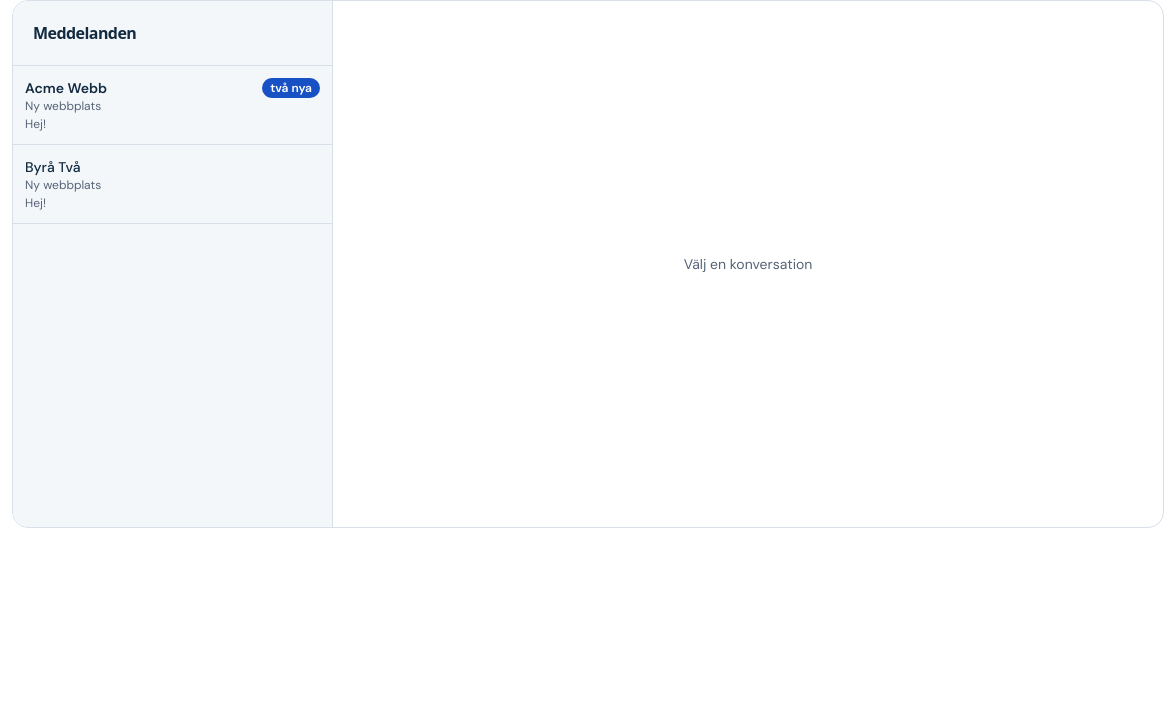
Scenario: chat › waits until the page is visible before marking messages read
The image size is (1164, 720).
Click the text "Acme Webb" at (66, 88), box [25, 78, 107, 98]
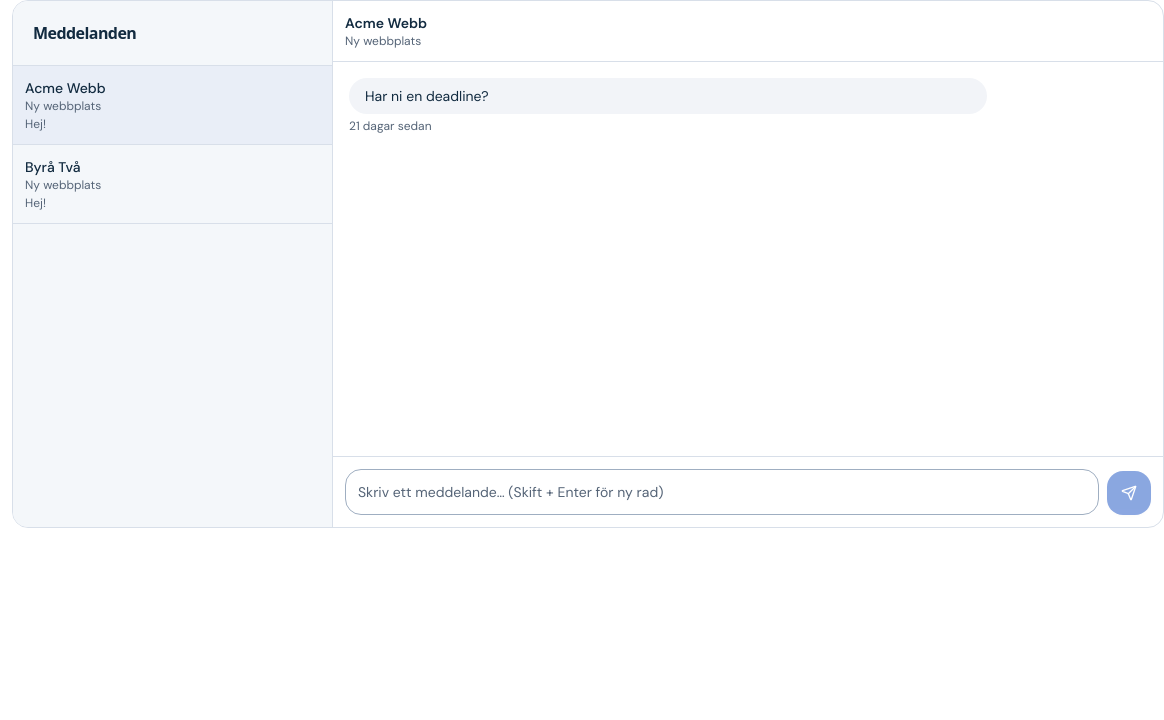
Now the text "Har ni en deadline?" is shown, box [349, 78, 987, 114]
